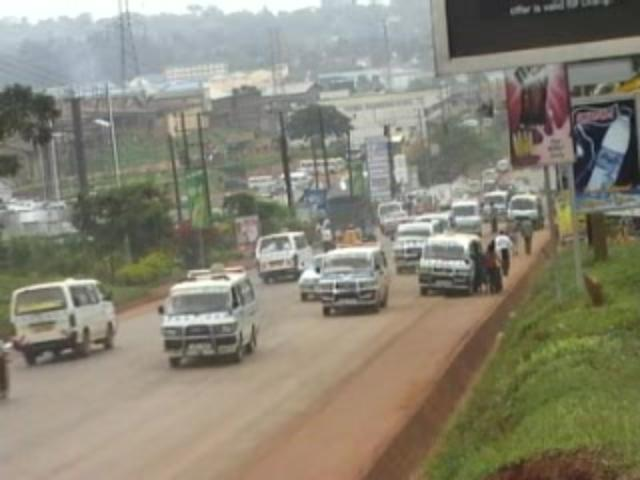van: (155, 268, 257, 364), (9, 274, 117, 361), (316, 244, 386, 312), (255, 231, 316, 284), (419, 235, 475, 292), (392, 219, 440, 271), (507, 193, 544, 231), (449, 199, 482, 235), (377, 201, 407, 237), (481, 190, 510, 224)
